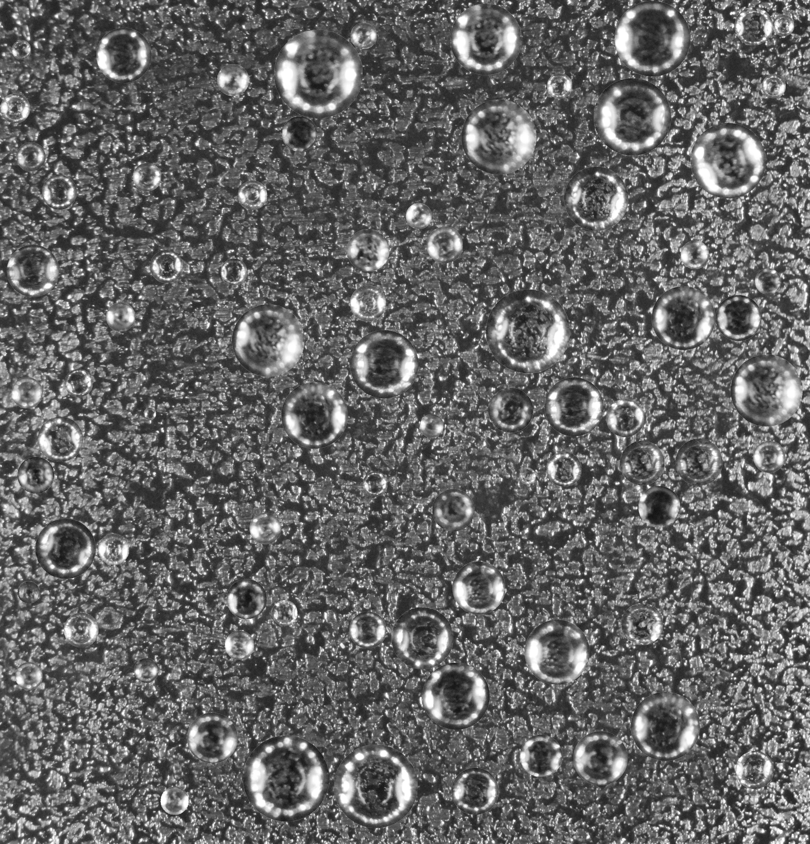Bubble: (274, 29, 362, 118), (243, 735, 329, 821), (334, 744, 417, 828), (486, 289, 569, 373), (593, 78, 671, 155), (614, 0, 690, 76), (461, 99, 536, 174), (690, 123, 765, 198), (730, 354, 802, 426), (232, 304, 304, 376), (450, 3, 521, 74), (631, 692, 699, 760), (350, 330, 418, 398), (422, 662, 489, 729), (281, 382, 347, 448), (524, 619, 589, 684), (564, 166, 628, 230), (651, 286, 715, 349), (391, 607, 453, 669), (35, 518, 95, 578), (544, 377, 603, 436), (96, 27, 151, 82), (573, 731, 627, 785), (452, 561, 505, 614), (6, 244, 58, 296), (187, 712, 237, 763), (675, 438, 722, 485), (451, 767, 498, 814), (715, 295, 761, 340), (37, 416, 82, 461), (488, 387, 533, 432), (620, 440, 664, 485), (520, 734, 562, 777), (347, 229, 389, 271), (621, 603, 663, 645), (432, 489, 474, 531), (638, 486, 680, 527), (226, 579, 266, 619), (606, 399, 644, 437), (735, 751, 773, 789), (734, 7, 772, 45), (349, 611, 386, 648), (17, 456, 54, 493), (426, 226, 462, 263), (350, 285, 386, 321), (63, 612, 98, 647), (41, 174, 76, 209), (546, 451, 581, 486), (282, 116, 317, 151), (150, 250, 182, 282), (753, 440, 785, 472), (249, 512, 280, 544), (11, 377, 42, 408), (217, 64, 248, 95), (98, 533, 129, 564), (237, 180, 267, 209), (0, 93, 29, 123), (132, 162, 161, 191), (106, 302, 135, 331), (16, 142, 45, 171), (225, 630, 254, 659), (680, 240, 709, 268), (160, 786, 188, 814), (64, 369, 92, 397), (220, 258, 247, 285), (15, 662, 42, 689), (350, 22, 376, 48), (755, 268, 781, 294), (547, 73, 572, 98), (272, 600, 297, 625), (362, 471, 387, 496), (406, 203, 431, 228), (134, 658, 158, 682), (762, 74, 785, 98), (420, 414, 443, 437), (17, 581, 39, 603), (773, 14, 794, 36), (11, 40, 30, 59), (519, 467, 535, 484), (143, 407, 155, 420)
